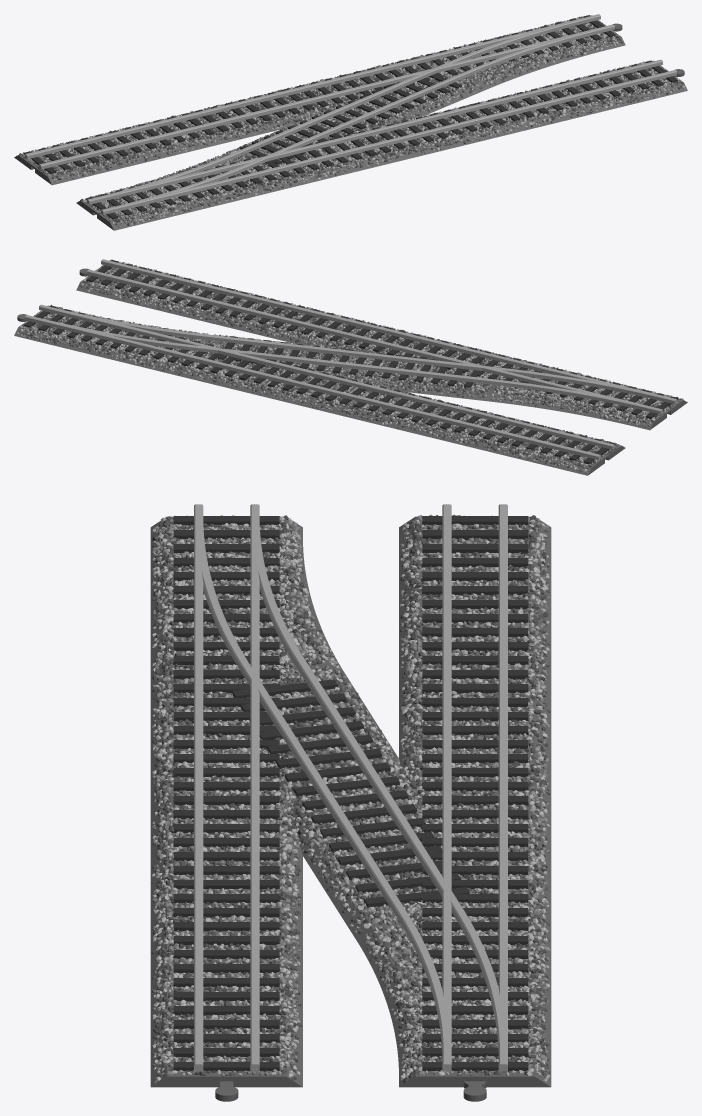
File: Rail_Crossover_Left_075.obj
3 views of the same model, one above another, from view 1: azimuth 30°, elevation 25°; view 2: azimuth 150°, elevation 25°; view 3: azimuth 270°, elevation 25° (orthographic). The views are drawn at different scales.
Visible parts, largest first — view 1: Rail_Crossover_Left_075; view 2: Rail_Crossover_Left_075; view 3: Rail_Crossover_Left_075.
Part boxes in pixels (x1,y1,x2,y2): Rail_Crossover_Left_075: (14,14,687,230); Rail_Crossover_Left_075: (14,259,687,475); Rail_Crossover_Left_075: (150,504,551,1101).
Bounding box in the file's own units: 4.1 × 0.0822 × 1.21.
1 material, 1 textured.
